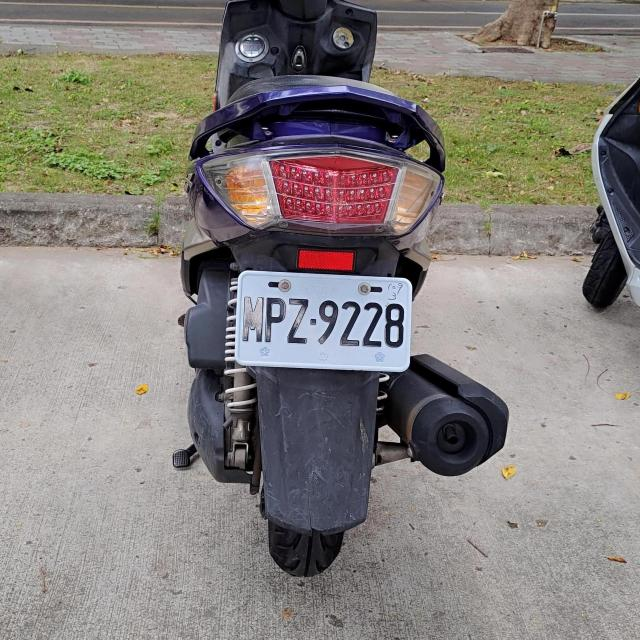W: (234, 272, 412, 369)
